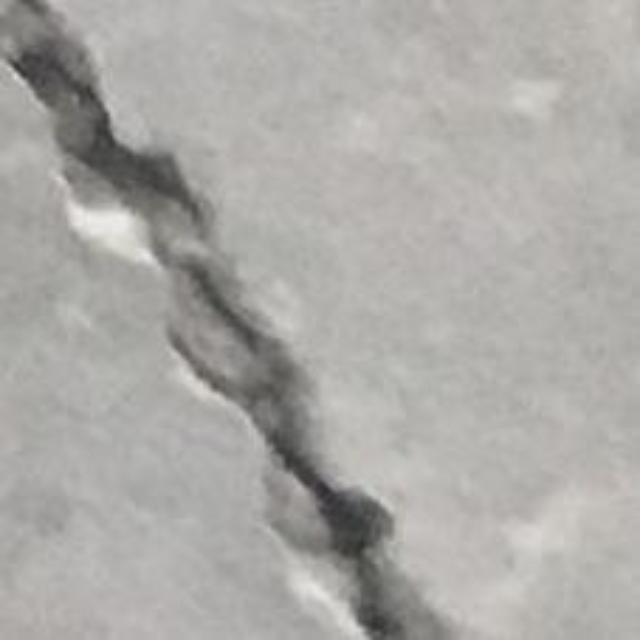crack: (0, 0, 448, 639)
